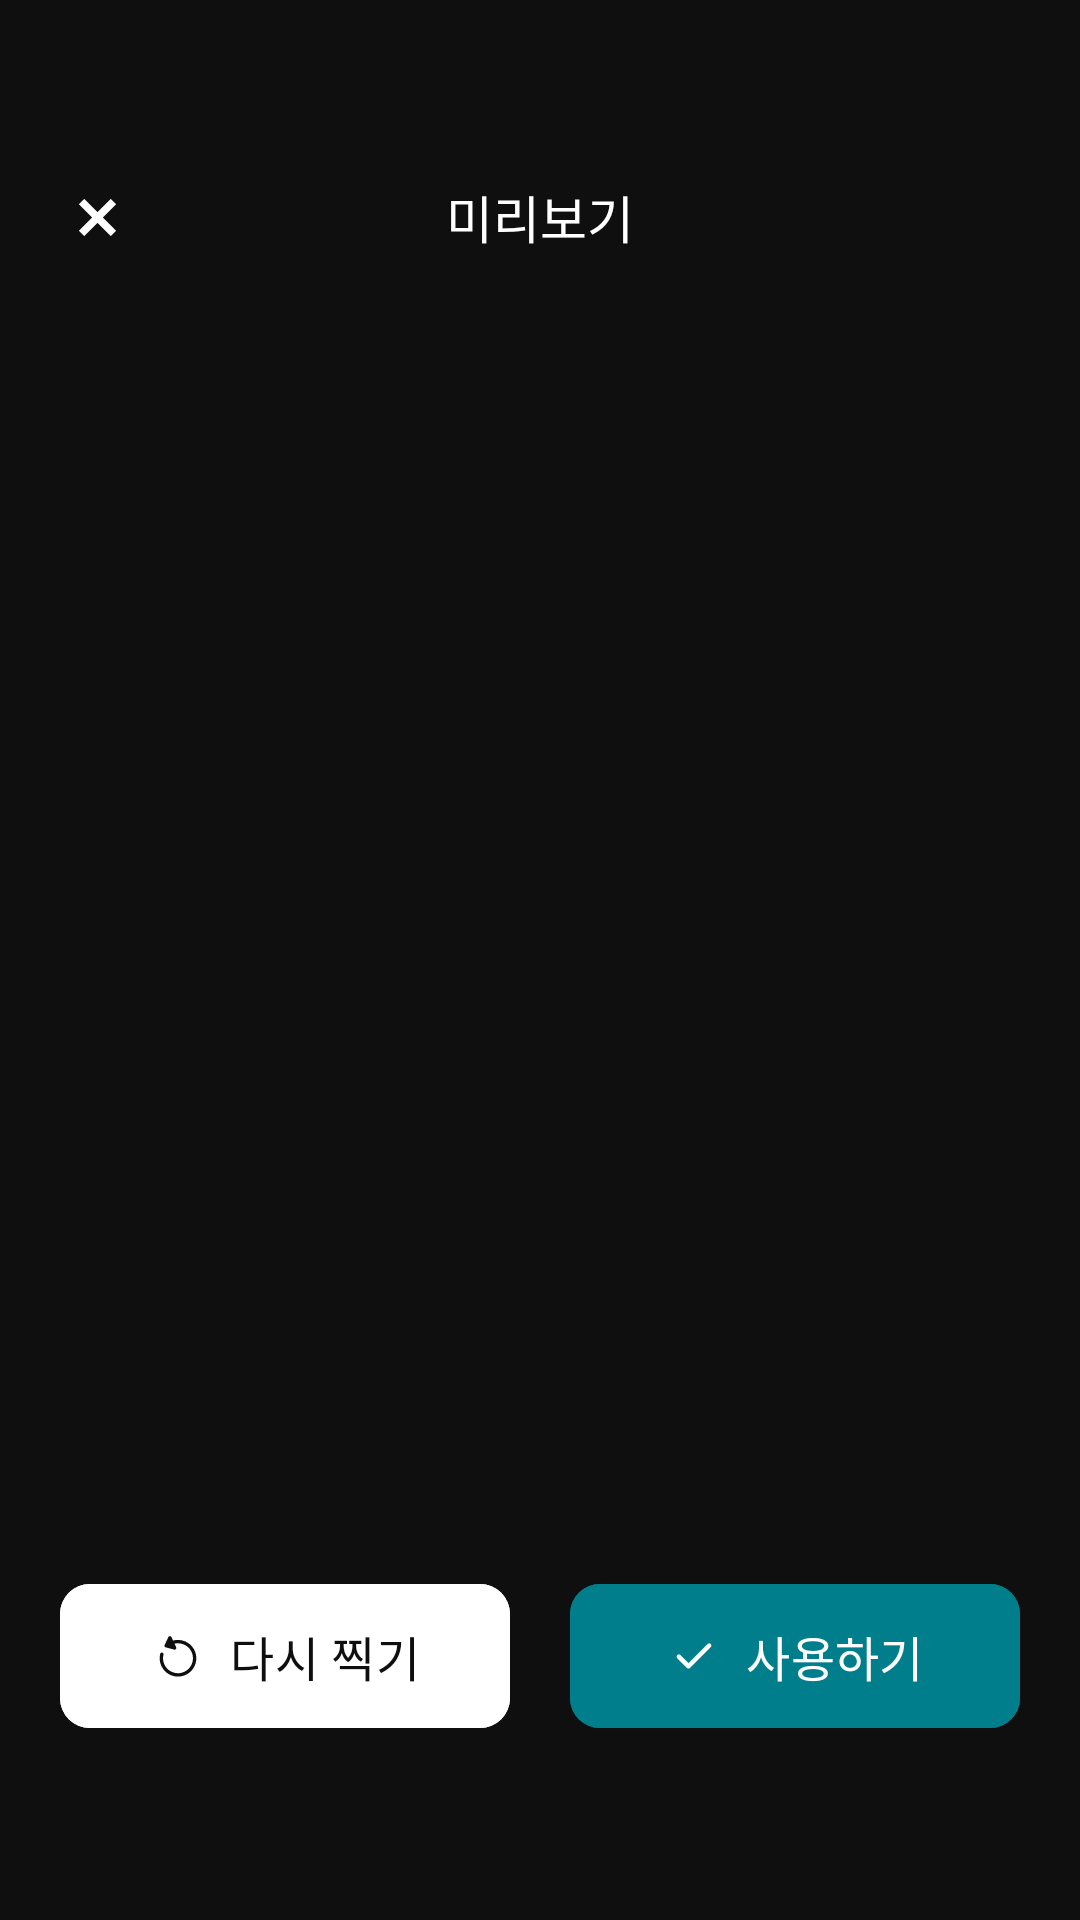

Screen size 1080×1920. Icon name, then its center in pixels as [x,y]:
close sv: [97,217]
